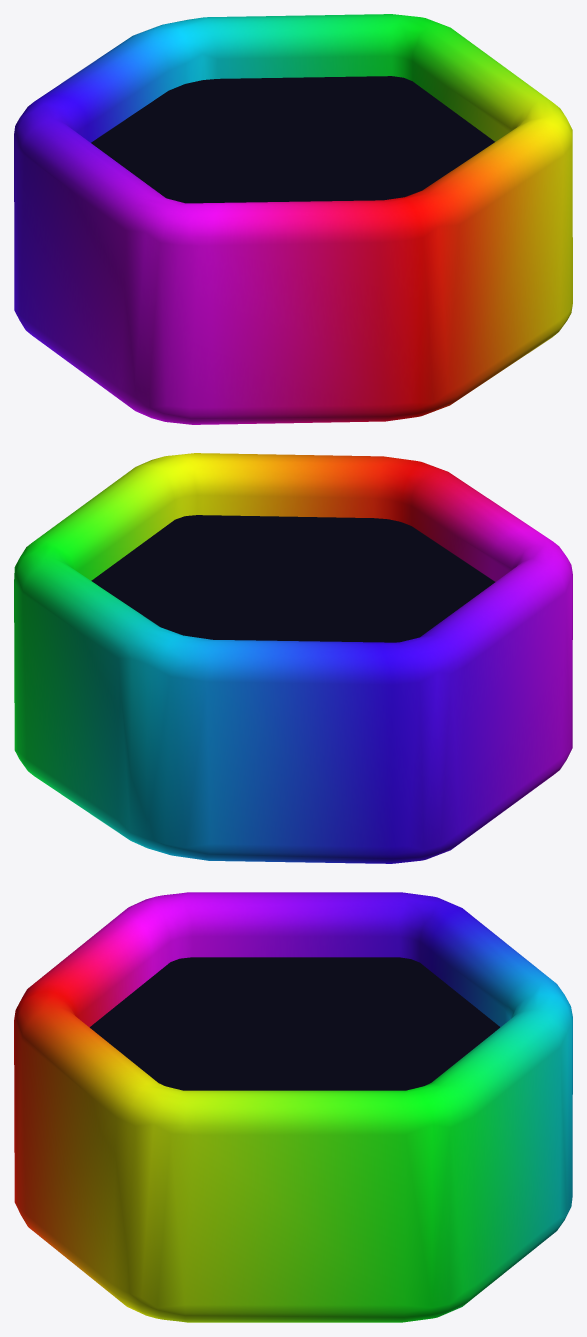
The model's file is Particle-24.dae.
3 views of the same model, one above another, from view 1: azimuth 30°, elevation 25°; view 2: azimuth 150°, elevation 25°; view 3: azimuth 270°, elevation 25° (orthographic). The views are drawn at different scales.
Visible parts, largest first — view 1: Particle; view 2: Particle; view 3: Particle.
Part boxes in pixels (x1=…): Particle: x1=14, y1=14, x2=572, y2=424; Particle: x1=14, y1=453, x2=572, y2=863; Particle: x1=14, y1=892, x2=572, y2=1322.
Bounding box in the file's own units: 0.1279 × 0.06 × 0.1343.
2 materials, 1 textured.
